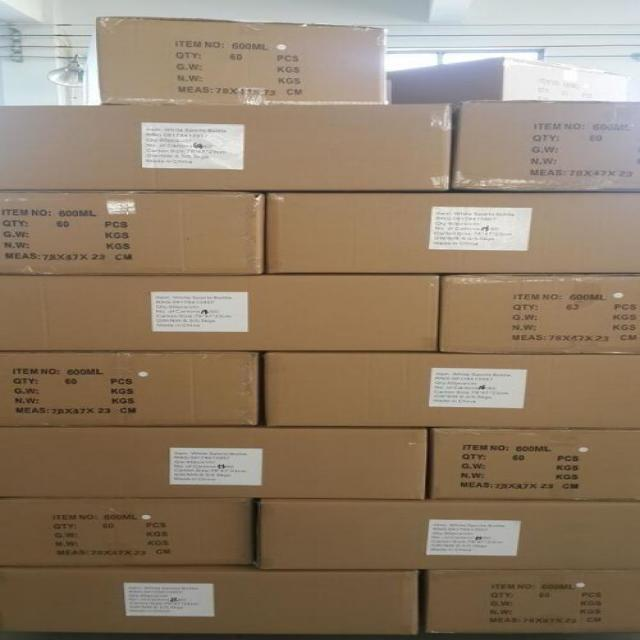box: (0, 100, 453, 199), (0, 272, 445, 358), (0, 422, 436, 506), (258, 185, 640, 275), (261, 346, 640, 433), (252, 488, 640, 572), (0, 564, 427, 638), (86, 15, 393, 106), (0, 187, 282, 284), (0, 346, 272, 434), (0, 491, 263, 574), (427, 264, 640, 356), (444, 98, 640, 188), (414, 564, 640, 640), (427, 423, 640, 501)
